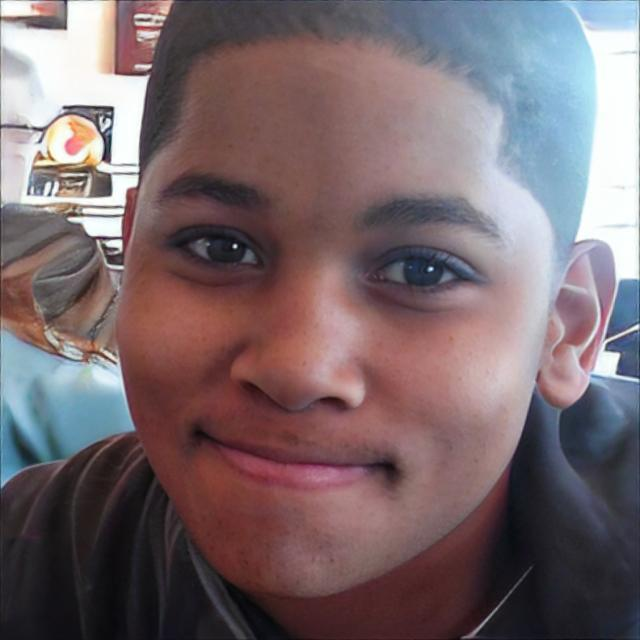happy: (114, 61, 536, 604)
